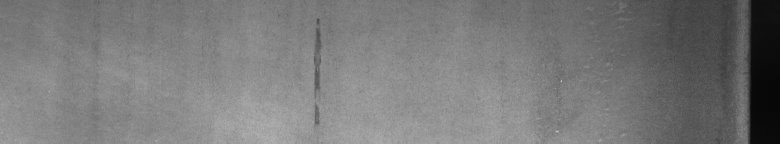hd: (308, 16, 324, 128)
